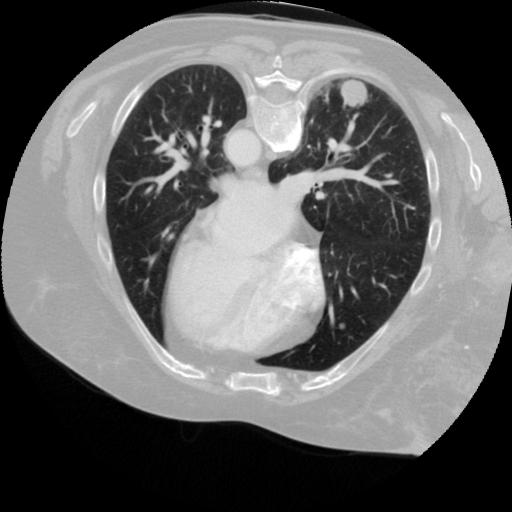nodule: (335, 74, 374, 113)
